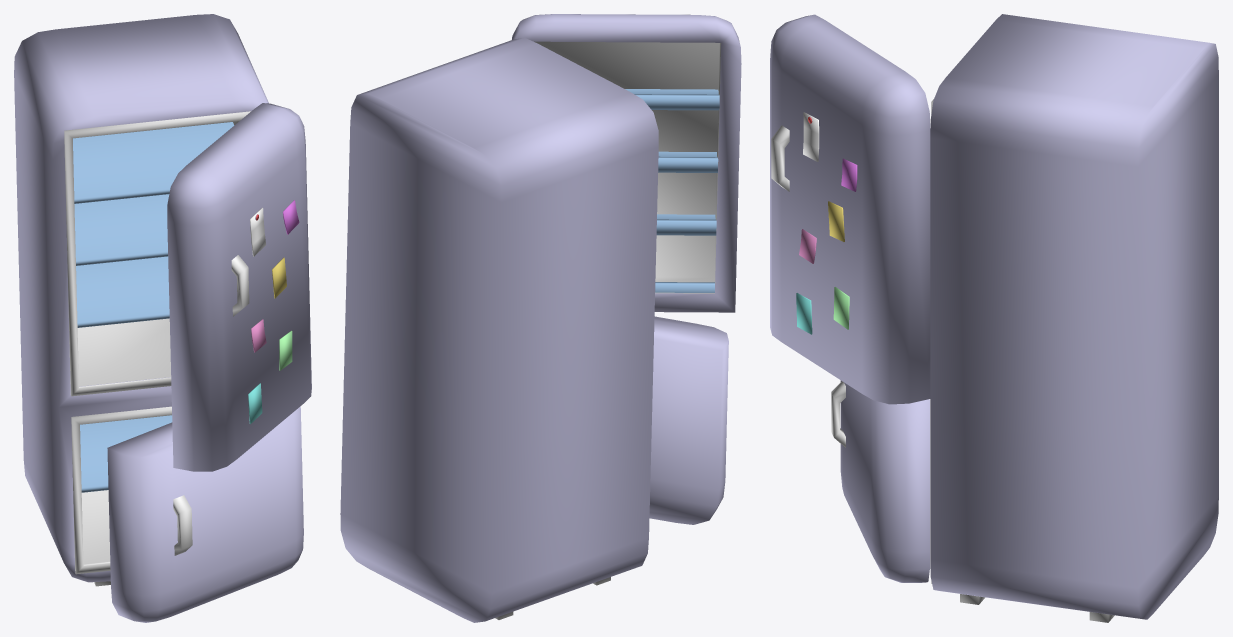
File: анипиа.fbx
3 views of the same model, side by side, from view 1: azimuth 30°, elevation 25°; view 2: azimuth 150°, elevation 25°; view 3: azimuth 270°, elevation 25° (orthographic). The views are drawn at different scales.
Visible parts, largest first — view 1: Fridge; view 2: Fridge; view 3: Fridge.
Boxes of the visible parts, left/top/right/bottom form: Fridge: left=14, top=14, right=311, bottom=622; Fridge: left=340, top=14, right=741, bottom=622; Fridge: left=770, top=14, right=1218, bottom=622.
Size of the model in its own units: 269 by 484 by 376.
